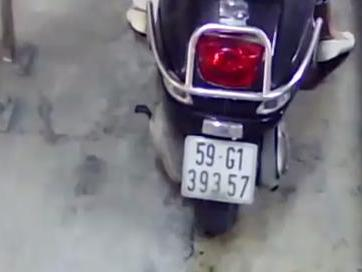num_plate: (181, 134, 258, 206)
